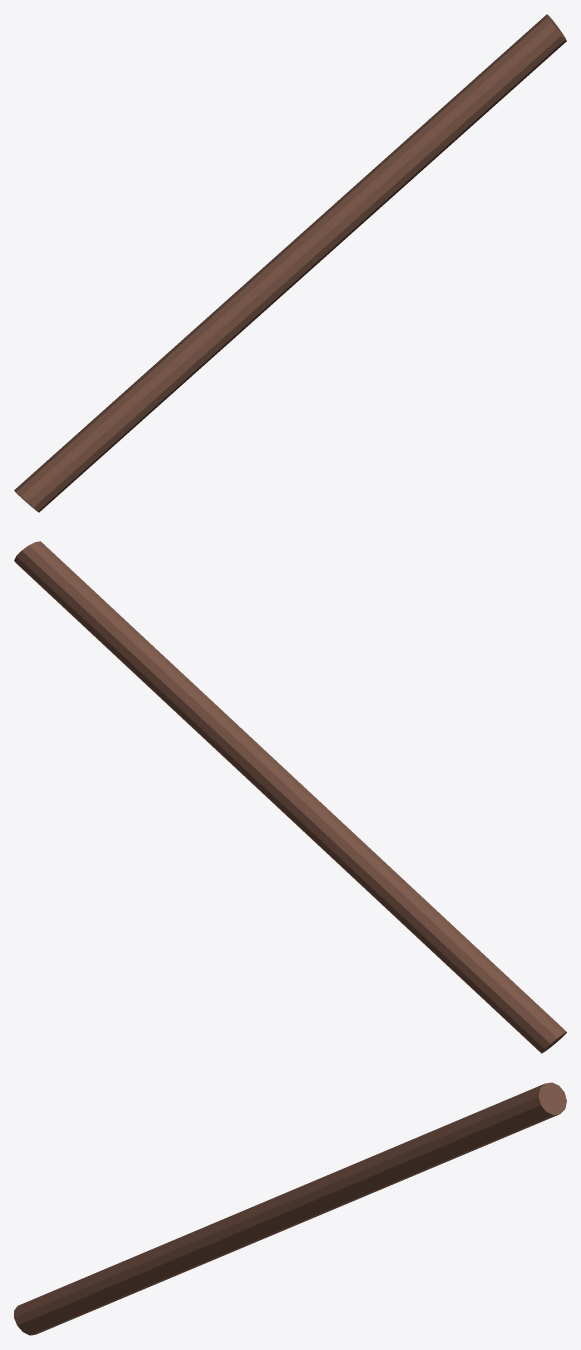
File: group1818759354_lev3.glb
3 views of the same model, one above another, from view 1: azimuth 30°, elevation 25°; view 2: azimuth 150°, elevation 25°; view 3: azimuth 330°, elevation 25° (orthographic).
Visible parts, largest first — view 1: group1818759354_lev3; view 2: group1818759354_lev3; view 3: group1818759354_lev3.
Boxes of the visible parts, x1=… form: group1818759354_lev3: x1=14, y1=14, x2=566, y2=512; group1818759354_lev3: x1=14, y1=541, x2=566, y2=1053; group1818759354_lev3: x1=14, y1=1082, x2=566, y2=1335.
Size of the model in its own units: 1.88 by 1.24 by 0.1367.
